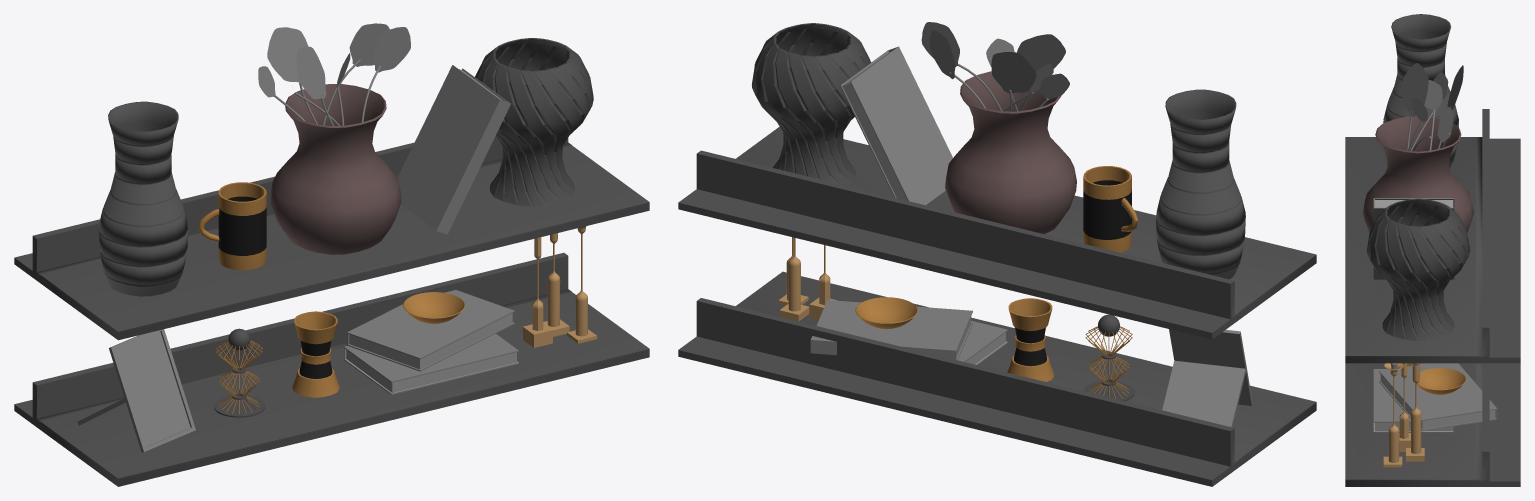
The model's file is decorative set.FBX.
The picture shows the model from 3 angles, left to right: view 1: azimuth 30°, elevation 25°; view 2: azimuth 150°, elevation 25°; view 3: azimuth 270°, elevation 25°; orthographic projection. The views are drawn at different scales.
Visible parts, largest first — view 1: lower marble, upper maeble, plant vase, left vase, right vase, book3, image, book2, book1, cup, accessories 1, accessories 2 (+3 smaller); view 2: lower marble, upper maeble, plant vase, left vase, right vase, book3, image, book2, cup, accessories 1, accessories 2, dish (+2 smaller); view 3: upper maeble, lower marble, right vase, plant vase, left vase, book2, book1, dish, wax h2, wax h1, book3, wax h3 (+1 smaller).
Boxes of the visible parts, x1,y1,x2,y2 form: lower marble: (14, 252, 649, 486); upper maeble: (14, 136, 649, 340); plant vase: (258, 23, 410, 254); left vase: (98, 101, 188, 296); right vase: (475, 38, 593, 206); book3: (397, 65, 510, 234); image: (77, 329, 195, 452); book2: (347, 290, 514, 371); book1: (344, 333, 518, 394); cup: (198, 182, 266, 270); accessories 1: (292, 311, 339, 397); accessories 2: (214, 328, 264, 417); lower marble: (678, 271, 1316, 486); upper maeble: (678, 126, 1316, 339); plant vase: (921, 22, 1076, 234); left vase: (1156, 89, 1245, 279); right vase: (752, 23, 871, 185); book3: (840, 46, 952, 205); image: (1162, 329, 1252, 427); book2: (810, 300, 972, 360); cup: (1083, 166, 1138, 252); accessories 1: (1007, 298, 1053, 381); accessories 2: (1083, 314, 1134, 401); dish: (855, 297, 917, 329); upper maeble: (1345, 109, 1520, 363); lower marble: (1345, 363, 1520, 486); right vase: (1366, 198, 1469, 340); plant vase: (1362, 63, 1473, 232); left vase: (1383, 14, 1458, 168); book2: (1379, 363, 1497, 431); book1: (1373, 369, 1454, 432); dish: (1417, 368, 1465, 394); wax h2: (1410, 364, 1421, 453); wax h1: (1384, 363, 1403, 462); book3: (1373, 198, 1454, 279); wax h3: (1399, 363, 1408, 438).
Bounding box in the file's own units: 0.8344 × 0.5381 × 0.2827.
